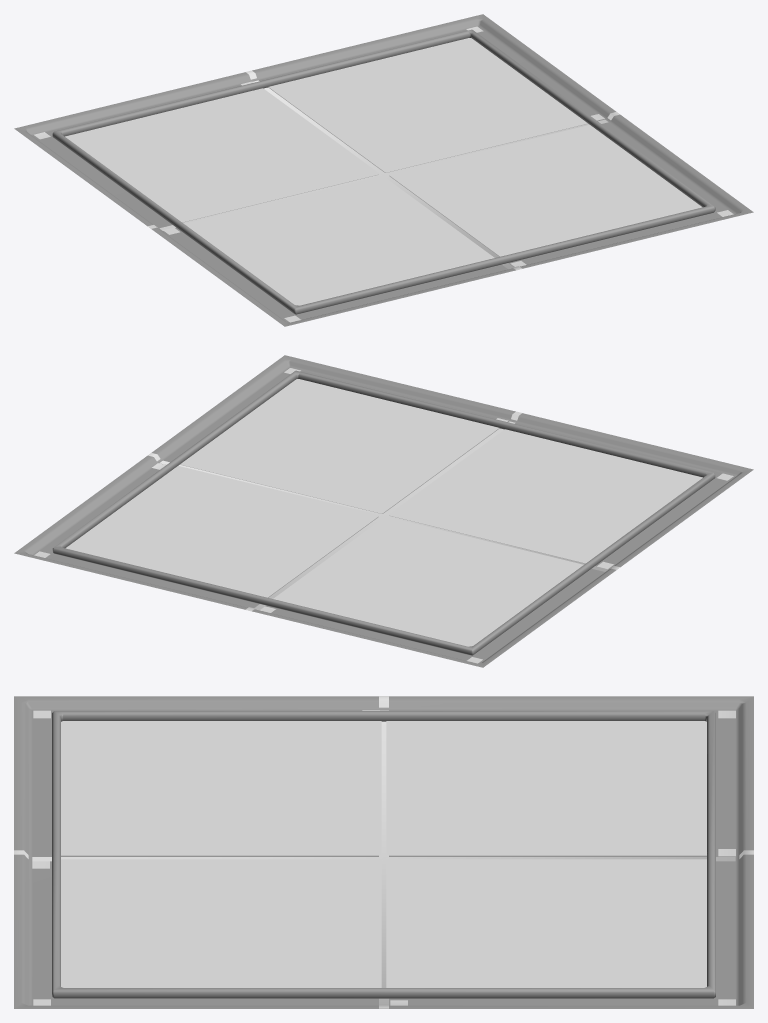
File: 4x4Roof.fbx
3 renders of one model, top to bottom at view 1: azimuth 30°, elevation 25°; view 2: azimuth 150°, elevation 25°; view 3: azimuth 270°, elevation 25°, orthographic. The views are drawn at different scales.
Visible parts, largest first — view 1: Plane.032_StylizedTrims, Plane.032, Plane.032_StylizedDecalAtlas; view 2: Plane.032_StylizedTrims, Plane.032; view 3: Plane.032_StylizedTrims, Plane.032, Plane.032_StylizedDecalAtlas.
Boxes of the visible parts, x1,y1,x2,y2 form: Plane.032_StylizedTrims: (65, 38, 702, 305); Plane.032: (14, 14, 753, 326); Plane.032_StylizedDecalAtlas: (34, 26, 733, 322); Plane.032_StylizedTrims: (65, 379, 702, 646); Plane.032: (14, 355, 753, 667); Plane.032_StylizedTrims: (14, 696, 753, 1008); Plane.032: (14, 696, 753, 1008); Plane.032_StylizedDecalAtlas: (32, 710, 735, 1005).
Bounding box in the file's own units: 400 × 5.56 × 400.
